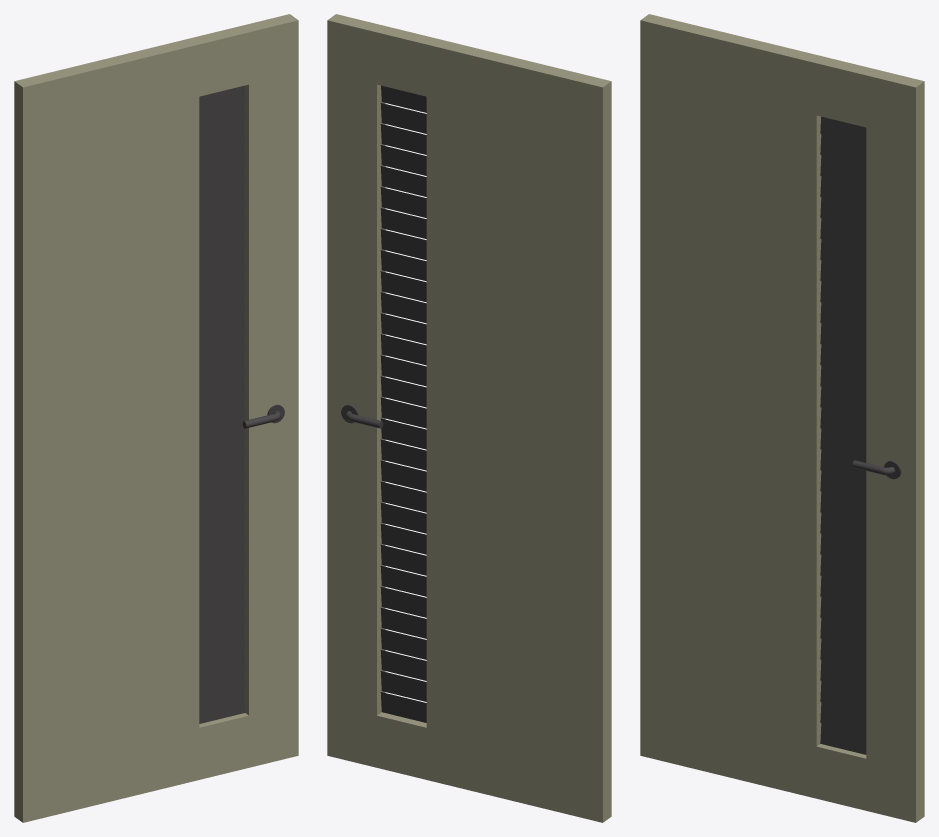
Rendered from door3-plate.FBX.
The picture shows the model from 3 angles, left to right: view 1: azimuth 30°, elevation 25°; view 2: azimuth 150°, elevation 25°; view 3: azimuth 330°, elevation 25°; orthographic projection.
Parts seen in each view (by area): view 1: 47:1:5; view 2: 47:1:5; view 3: 47:1:5.
Part boxes in pixels (bbox=[...]): 47:1:5: bbox=[14, 14, 298, 822]; 47:1:5: bbox=[327, 14, 611, 822]; 47:1:5: bbox=[640, 14, 924, 822].
Size of the model in its own units: 32.64 by 83.27 by 4.13.
